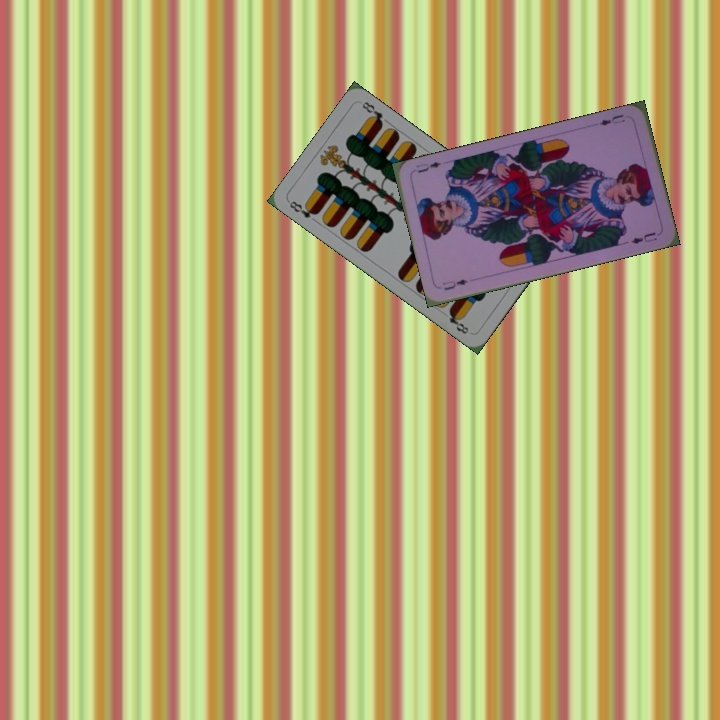E8: (285, 197, 320, 221)
EU: (595, 110, 627, 128), (439, 275, 470, 293)
